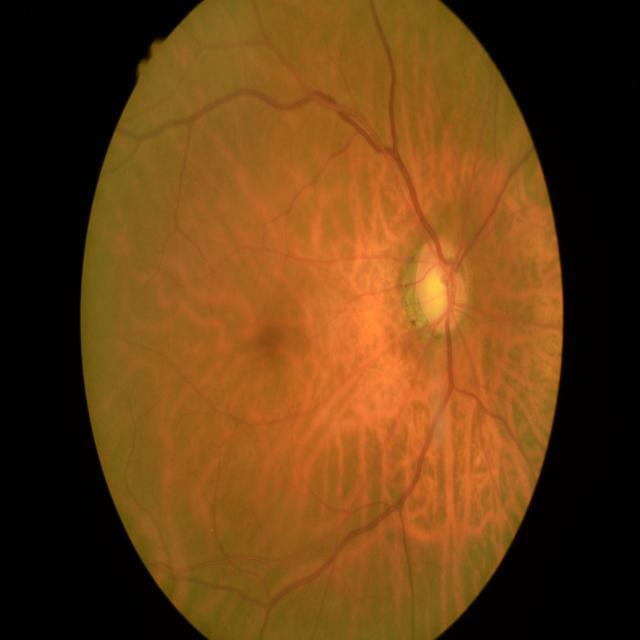cup: (423, 266, 454, 322)
disk: (417, 240, 467, 333)
